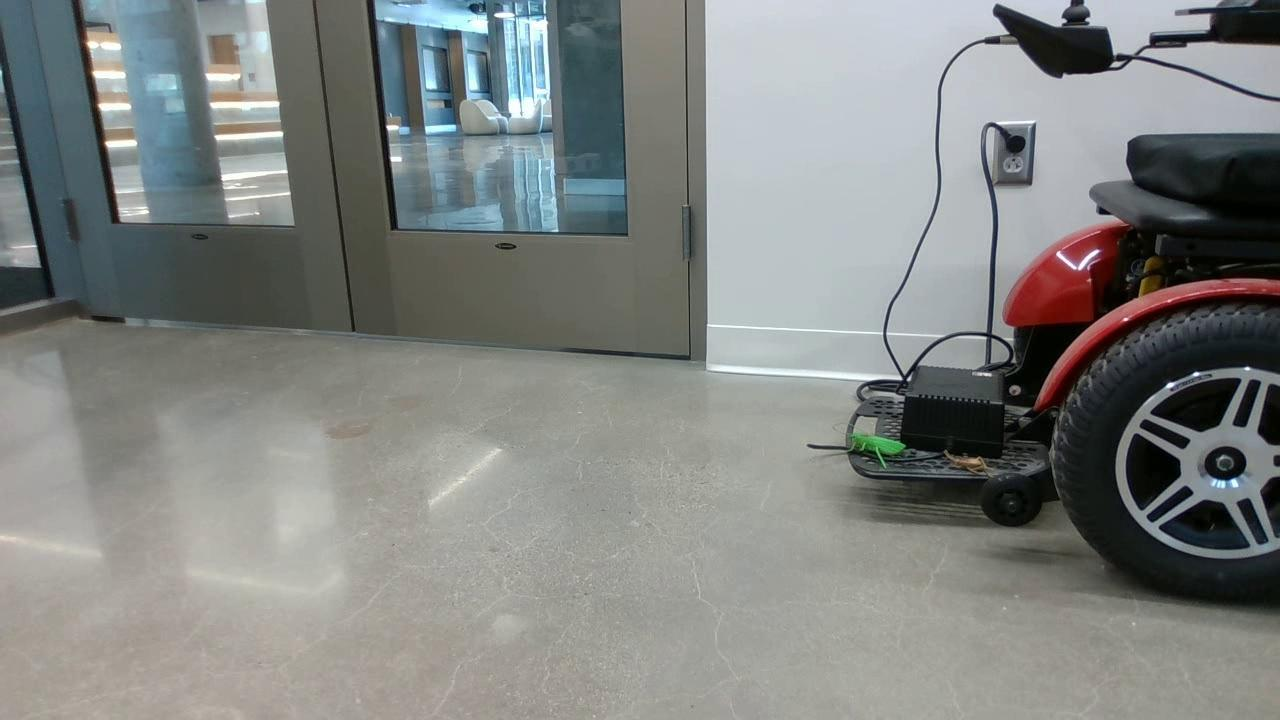grasshopper: (846, 429, 909, 469)
